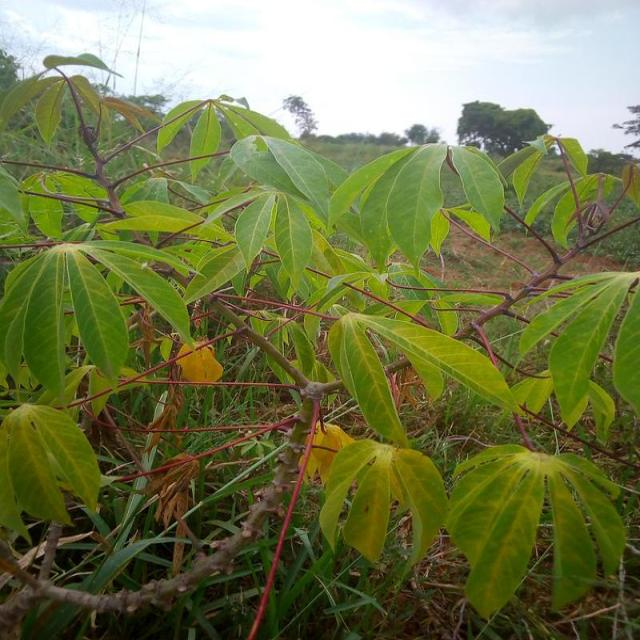cassava leaf: (0, 52, 638, 626), (444, 442, 626, 620), (318, 438, 448, 568), (0, 401, 102, 542)
